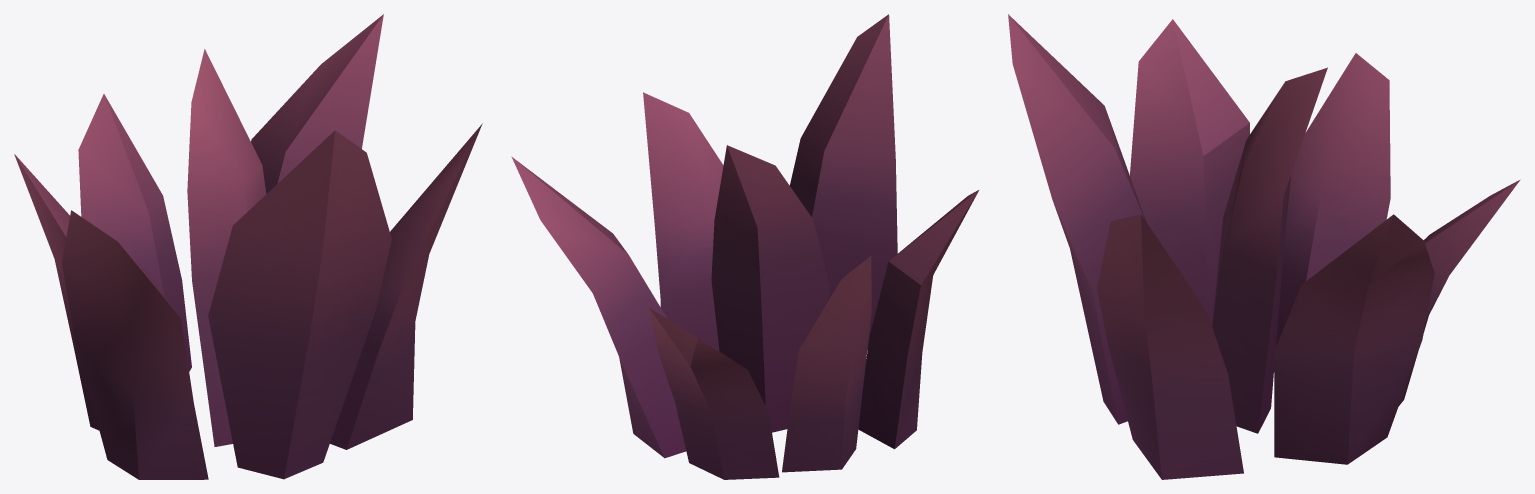
The model's file is grass_purple.glb.
3 views of the same model, side by side, from view 1: azimuth 30°, elevation 25°; view 2: azimuth 150°, elevation 25°; view 3: azimuth 270°, elevation 25° (orthographic). The views are drawn at different scales.
Parts seen in each view (by area): view 1: grass_purple; view 2: grass_purple; view 3: grass_purple.
Boxes of the visible parts, x1=… form: grass_purple: x1=14, y1=14, x2=482, y2=479; grass_purple: x1=511, y1=14, x2=978, y2=479; grass_purple: x1=1008, y1=14, x2=1520, y2=479.
Size of the model in its own units: 0.5777 by 0.5014 by 0.5978.
1 material, 1 textured.
